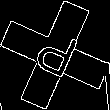P_SW: (28, 24, 82, 86)
